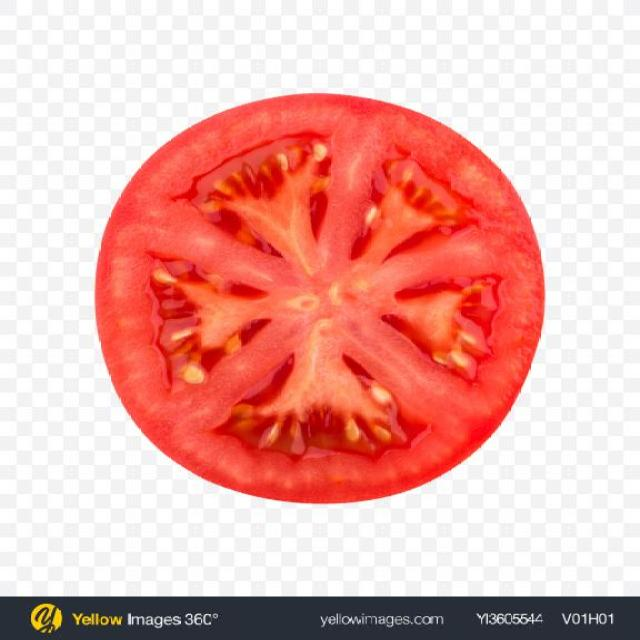Tomato: (91, 89, 543, 516)
